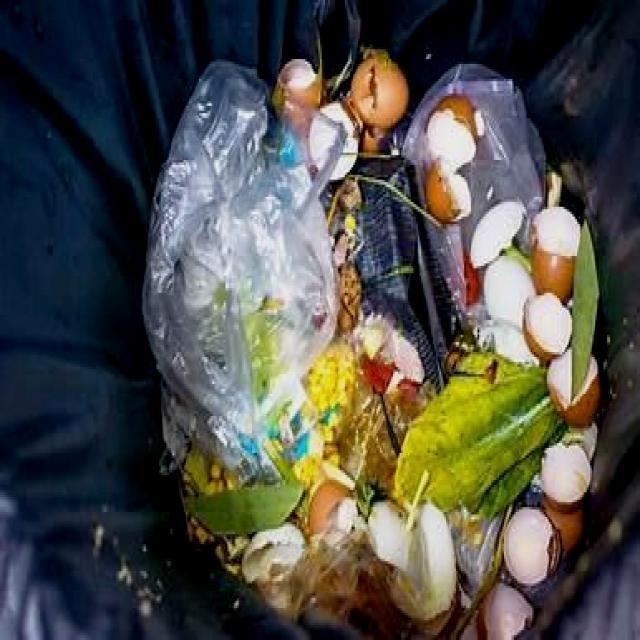Garbage: (143, 50, 605, 640)
Plastic_Bag: (144, 61, 338, 465), (404, 63, 545, 252), (356, 182, 466, 390), (355, 160, 412, 195)
